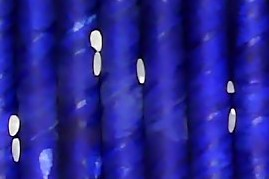broken_grain: (225, 79, 235, 95)
complete_grain: (88, 27, 105, 52), (8, 137, 23, 165), (91, 50, 104, 80), (135, 57, 147, 85), (8, 113, 21, 138), (227, 106, 237, 135)
